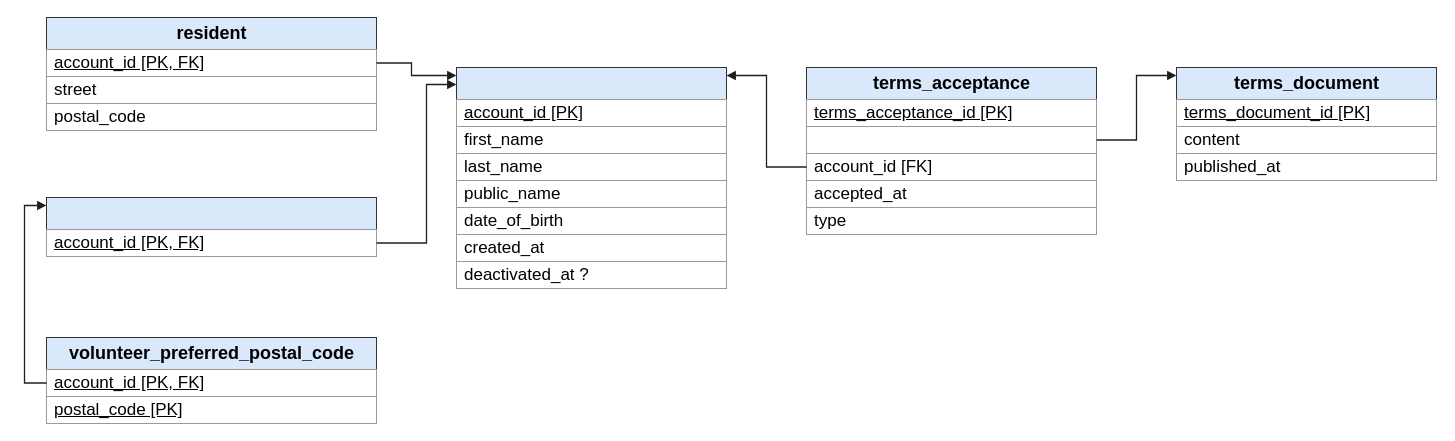
Some shapes in this 1455 by 441 pixel diagram are drawn without their labels. Each missing label, with the centre of its shape:
account: the point at 591,83
terms_document_id [FK]: the point at 951,140
volunteer: the point at 211,213
